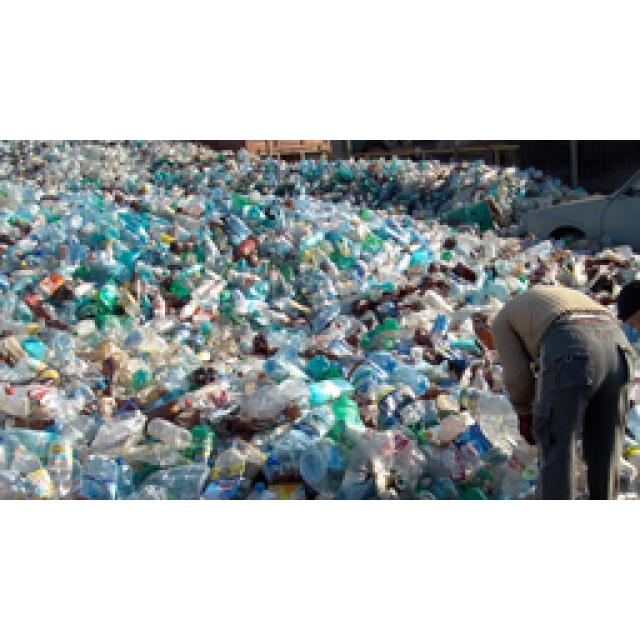plastic: (0, 134, 640, 508)
